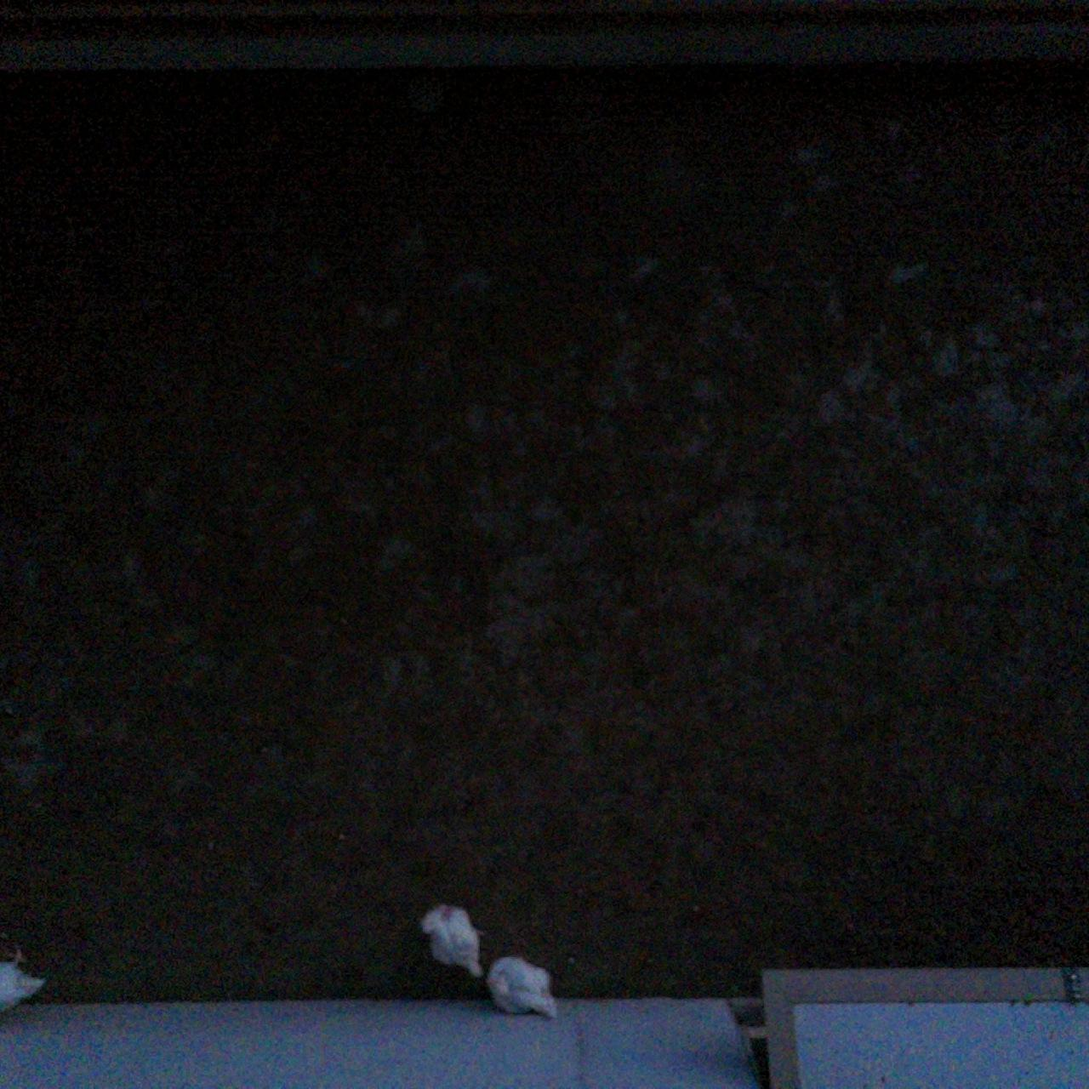chicken: (481, 950, 566, 1026), (417, 899, 489, 982), (0, 938, 52, 1017)
